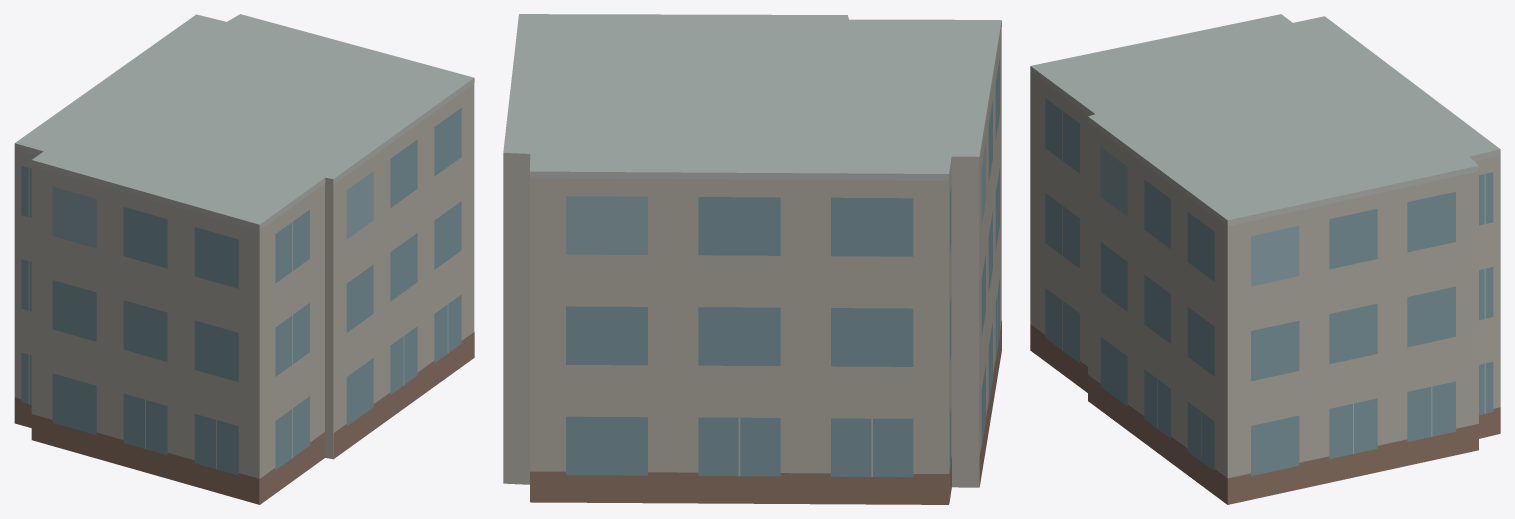
File: survey-upis-32502319.glb
3 views of the same model, side by side, from view 1: azimuth 30°, elevation 25°; view 2: azimuth 150°, elevation 25°; view 3: azimuth 270°, elevation 25° (orthographic). The views are drawn at different scales.
Parts seen in each view (by area): view 1: survey-upis-32502319.tmp; view 2: survey-upis-32502319.tmp; view 3: survey-upis-32502319.tmp.
Boxes of the visible parts, <box> form: survey-upis-32502319.tmp: <box>14,14,474,504</box>; survey-upis-32502319.tmp: <box>503,14,1001,504</box>; survey-upis-32502319.tmp: <box>1030,14,1500,504</box>.
Size of the model in its own units: 18.6 by 11.95 by 17.91.
